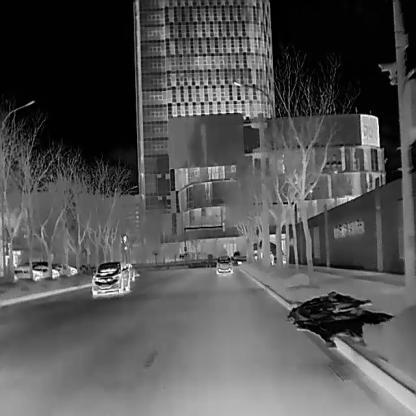car: (90, 261, 129, 296), (11, 261, 59, 284), (53, 261, 77, 278), (214, 255, 232, 276)
